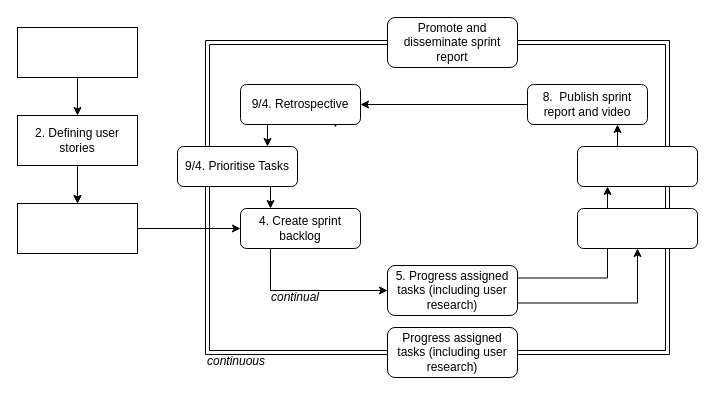
The diagram is 715 pixels wide and 395 high, and some of its shapes have lost their labels. The centre of each missing label's shape, as x and y in pixels:
1. Focus groups: point 77,52
3. Initial prioritisation: point 77,228
6. Open review on GitHub: point 637,228
7. Define user stories: point 637,166
